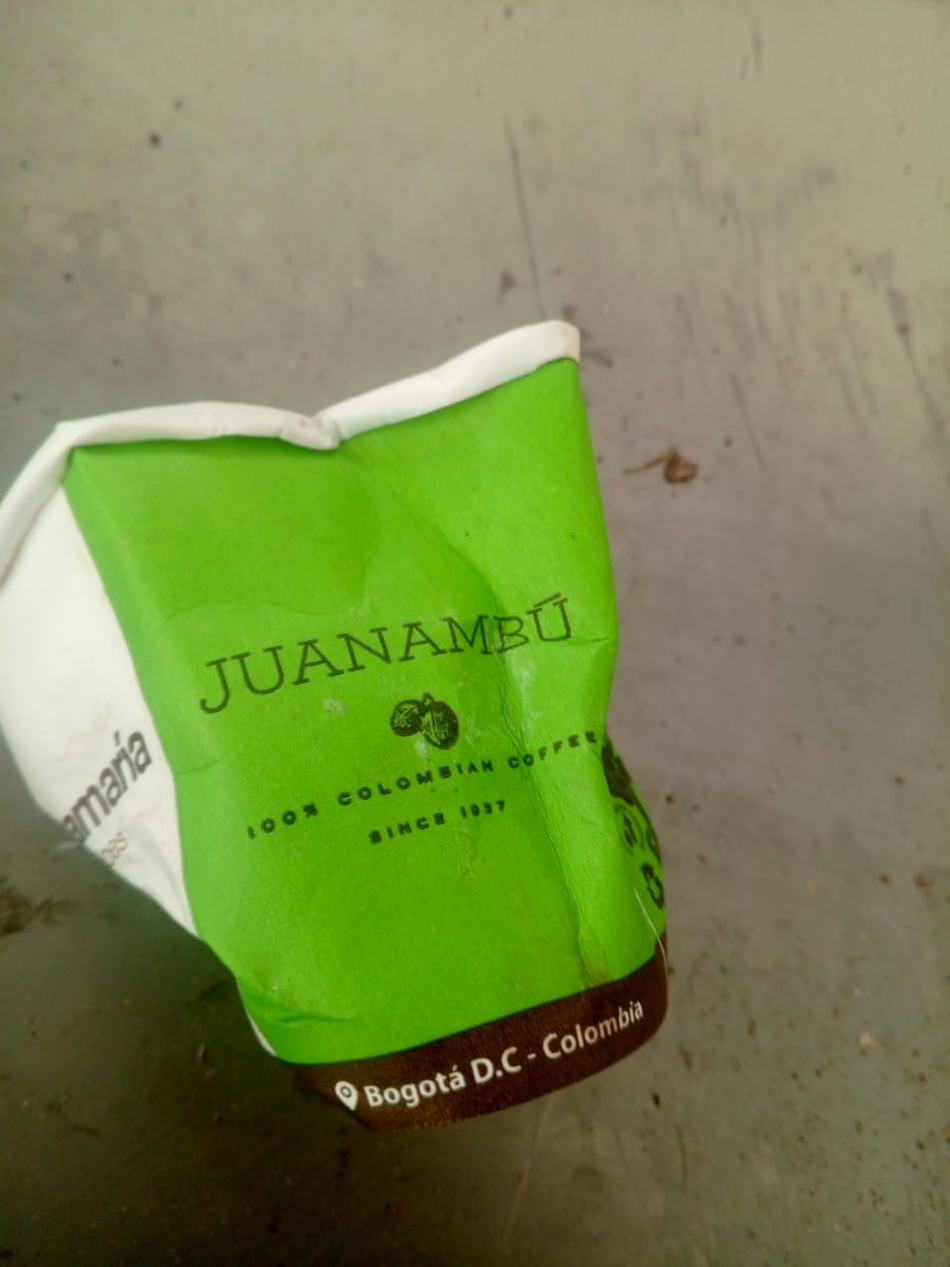Carton: (0, 320, 670, 1127)
